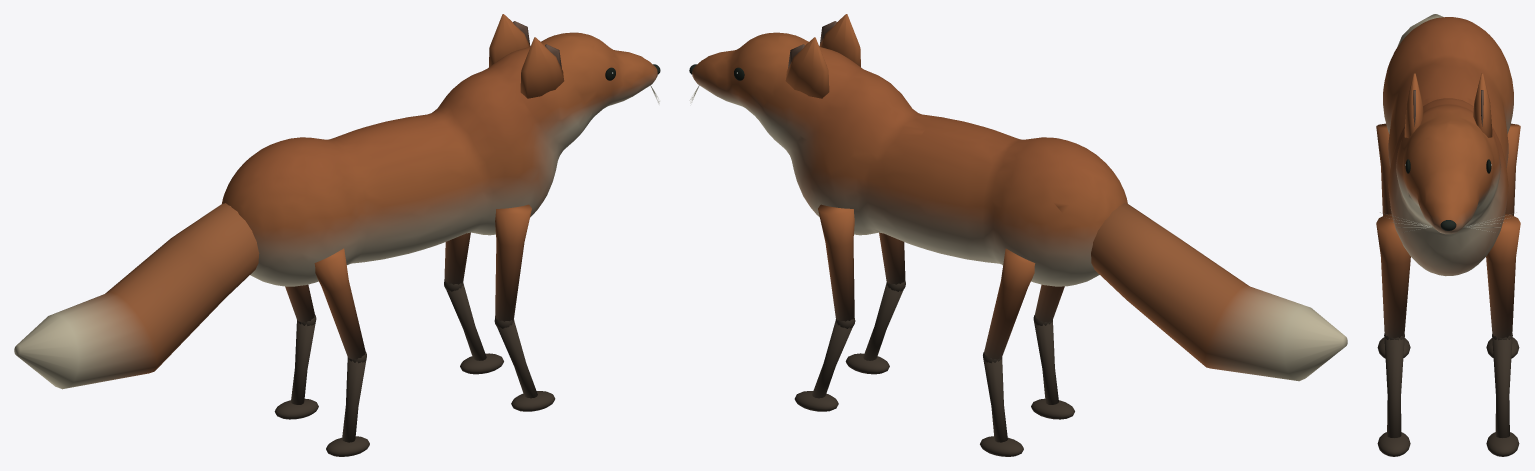
The model's file is wildlife-fox.glb.
3 views of the same model, side by side, from view 1: azimuth 30°, elevation 25°; view 2: azimuth 150°, elevation 25°; view 3: azimuth 270°, elevation 25° (orthographic). The views are drawn at different scales.
Visible parts, largest first — view 1: fox; view 2: fox; view 3: fox.
Boxes of the visible parts, x1,y1,x2,y2 form: fox: (14,14,660,456); fox: (689,14,1347,456); fox: (1376,14,1520,456).
Size of the model in its own units: 1.1 by 0.5846 by 0.1995.
